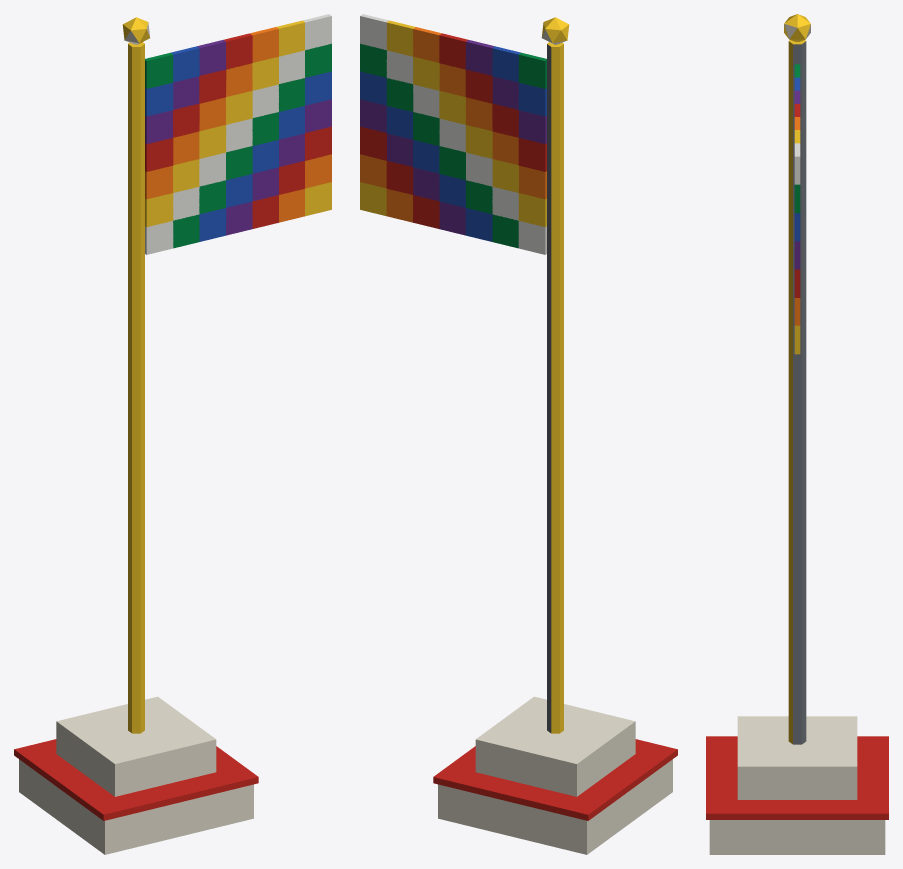
File: Wiphala.fbx
3 views of the same model, side by side, from view 1: azimuth 30°, elevation 25°; view 2: azimuth 150°, elevation 25°; view 3: azimuth 270°, elevation 25° (orthographic). The views are drawn at different scales.
Parts seen in each view (by area): view 1: Wiphala; view 2: Wiphala; view 3: Wiphala.
Part boxes in pixels (x1,y1,x2,y2): Wiphala: [14, 14, 331, 854]; Wiphala: [360, 14, 677, 854]; Wiphala: [706, 14, 888, 854].
Bounding box in the file's own units: 0.9105 × 2.53 × 0.52.
